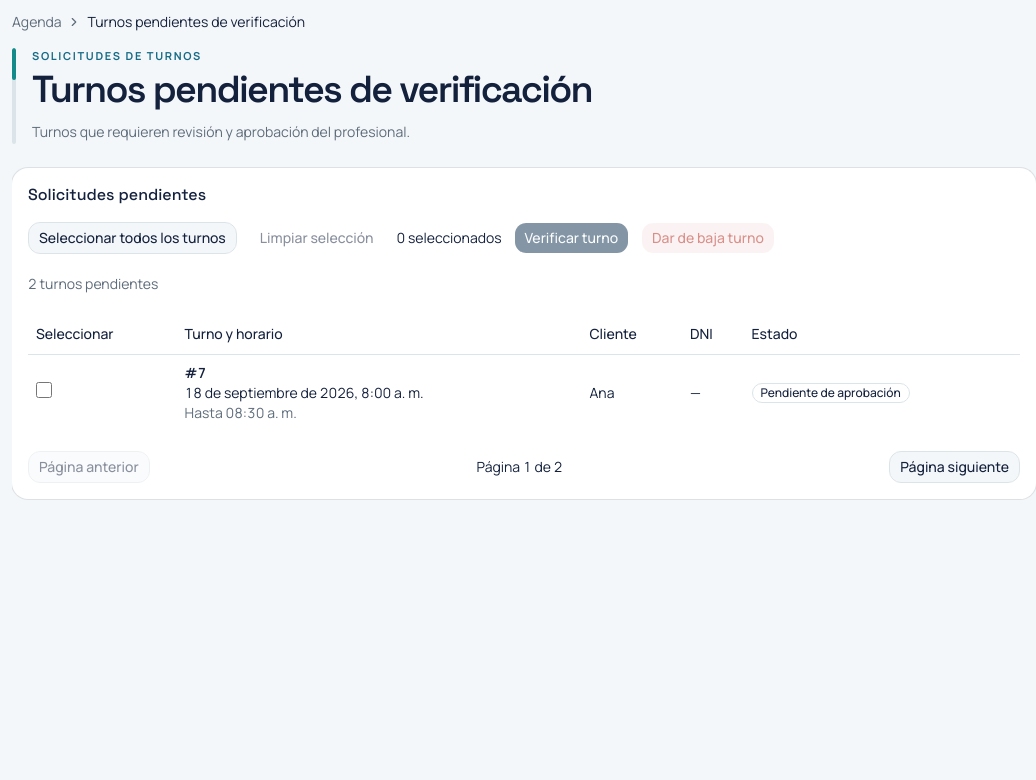
Test: selecciona todos los pendientes de otras páginas y verifica la selección
The width and height of the screenshot is (1036, 780).
Expected: the text "Ana" is shown, left=582, top=354, right=682, bottom=431
Expected: the button "Verificar turno" is disabled, left=514, top=222, right=629, bottom=254
Click the checkbox named "Seleccionar turno #7". click: coordinates (44, 390)
box: left=36, top=382, right=52, bottom=398
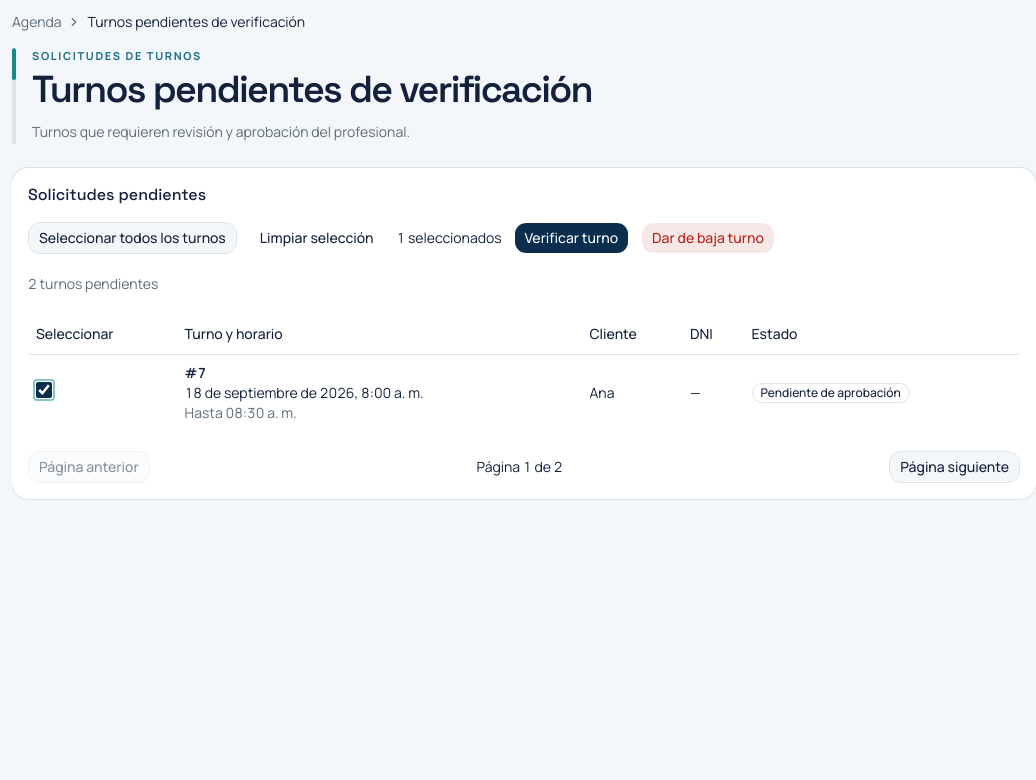
Expected: the text "1 seleccionados" is shown, left=396, top=228, right=502, bottom=248
Click the button "Seleccionar todos los turnos". click: coordinates (132, 238)
box: left=28, top=222, right=237, bottom=254
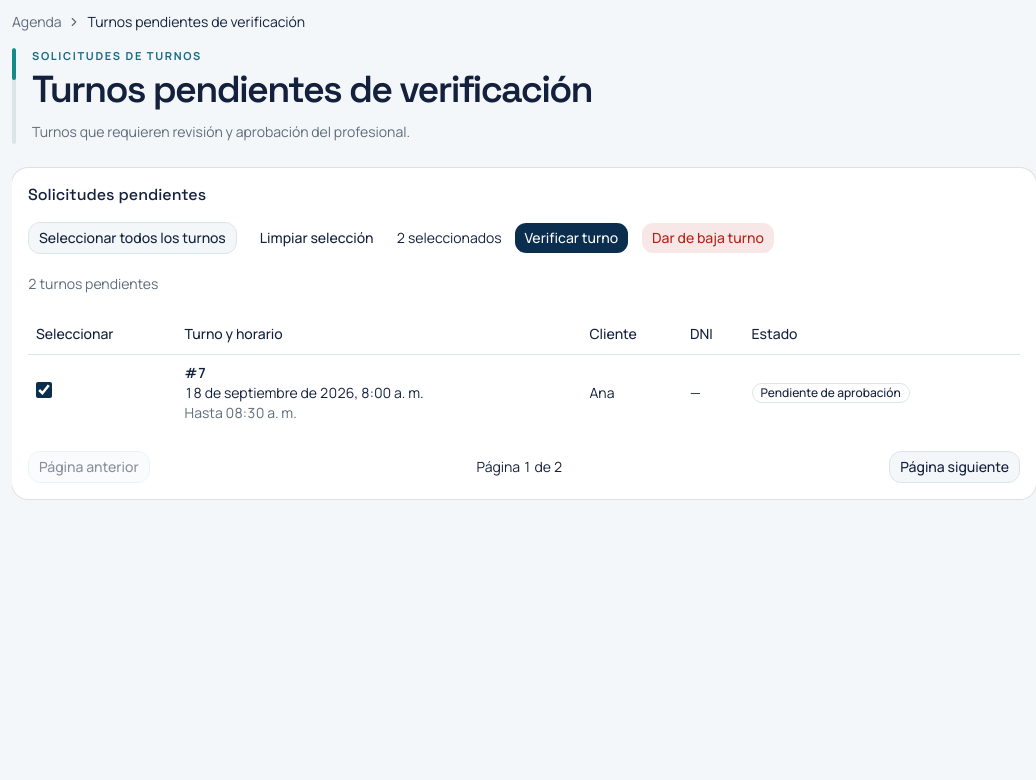
Expected: the text "2 seleccionados" is shown, left=396, top=228, right=502, bottom=248
Click the button "Verificar turno". click: coordinates (571, 238)
box: left=514, top=222, right=629, bottom=254
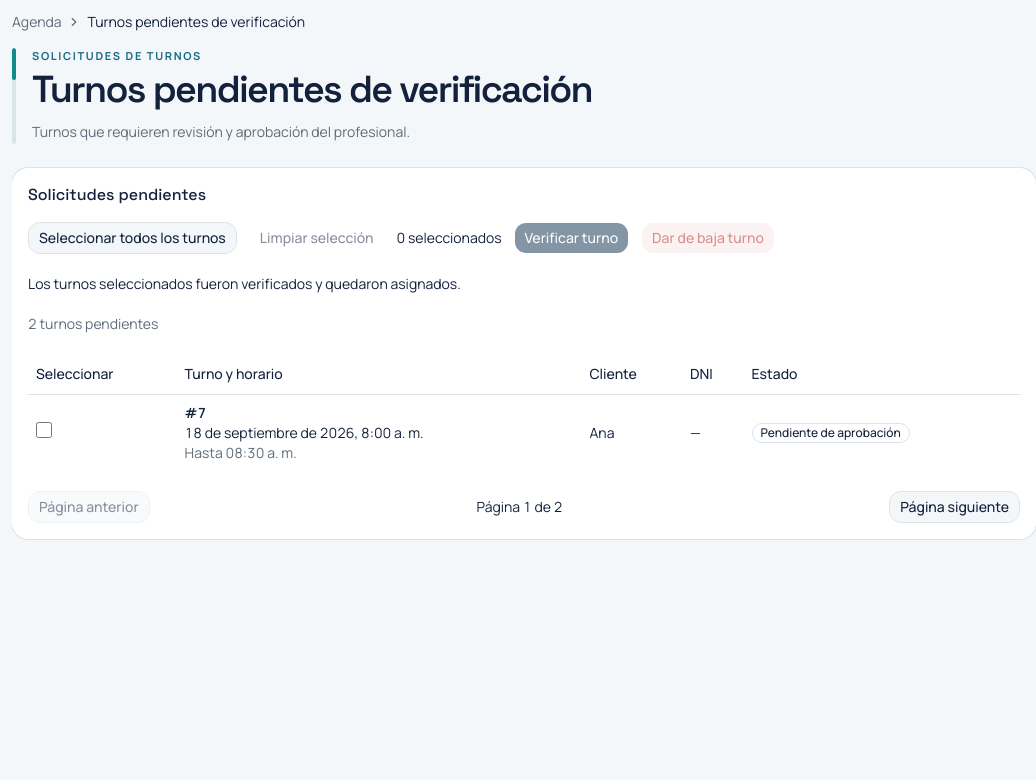
Expected: the text "Los turnos seleccionados fueron verificados y quedaron asignados." is shown, left=28, top=274, right=461, bottom=293
